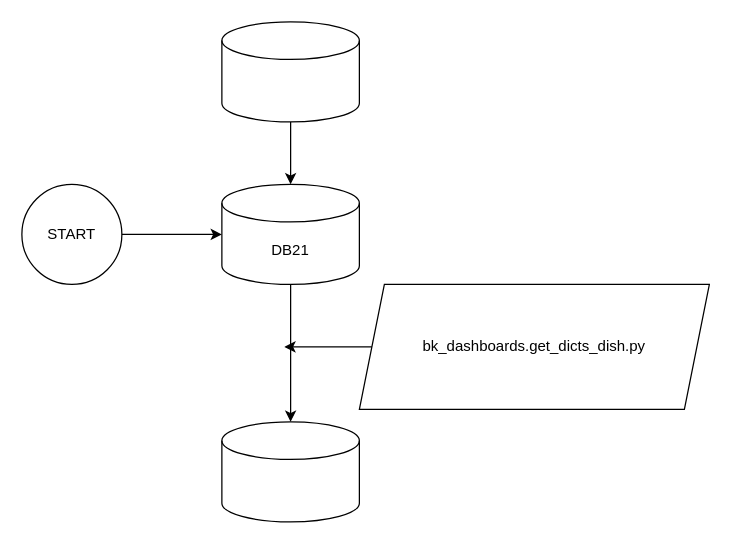
This 731x544 diagram has some shape labels left out. Here are the shapes that lost their labels. From the top down, the centre of each, then its label:
At point 290,71: "DWH + DB17".
At point 290,471: "analytics_db".
